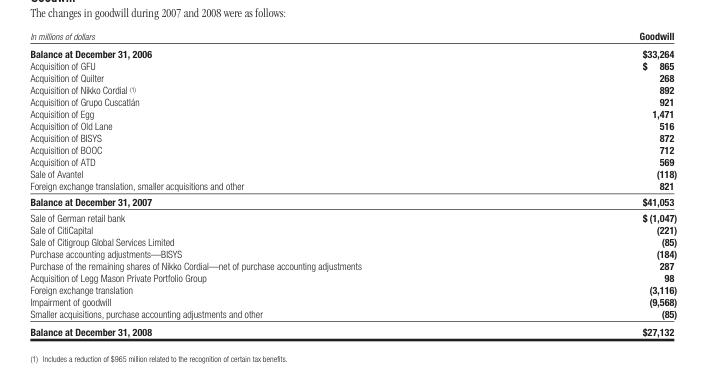table: (29, 29, 676, 337)
table column: (29, 29, 499, 337), (499, 29, 676, 337)
table column header: (29, 29, 676, 44)
table row: (29, 193, 676, 209), (29, 29, 676, 44), (29, 44, 676, 59), (29, 307, 676, 322), (29, 322, 676, 337), (29, 179, 676, 193), (29, 209, 676, 223), (29, 59, 676, 71), (29, 71, 676, 83), (29, 83, 676, 95), (29, 95, 676, 107), (29, 107, 676, 119), (29, 119, 676, 131), (29, 131, 676, 143), (29, 143, 676, 155), (29, 155, 676, 167), (29, 167, 676, 179), (29, 223, 676, 235), (29, 235, 676, 247), (29, 247, 676, 259), (29, 259, 676, 271), (29, 271, 676, 283), (29, 283, 676, 295), (29, 295, 676, 307)
